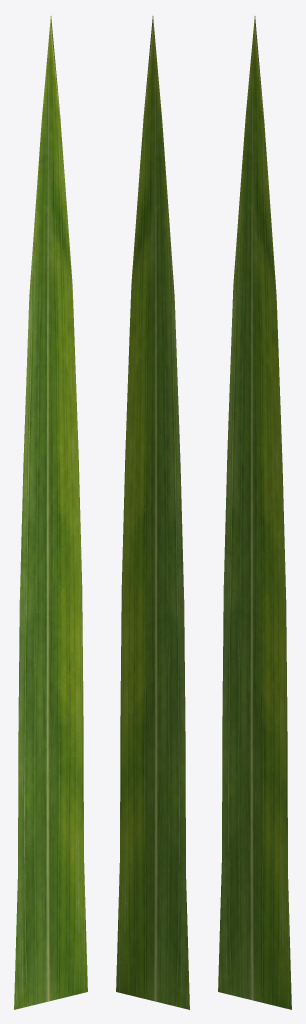
File: GroundTuft.fbx
The picture shows the model from 3 angles, left to right: view 1: azimuth 30°, elevation 25°; view 2: azimuth 150°, elevation 25°; view 3: azimuth 330°, elevation 25°; orthographic projection.
Visible parts, largest first — view 1: Leaf; view 2: Leaf; view 3: Leaf.
Boxes of the visible parts, x1,y1,x2,y2 form: Leaf: (14, 16, 87, 1009); Leaf: (116, 16, 189, 1009); Leaf: (218, 16, 291, 1009).
Size of the model in its own units: 28.69 by 366 by 4.36e-05.
Materials: 1 (1 with a texture image).
